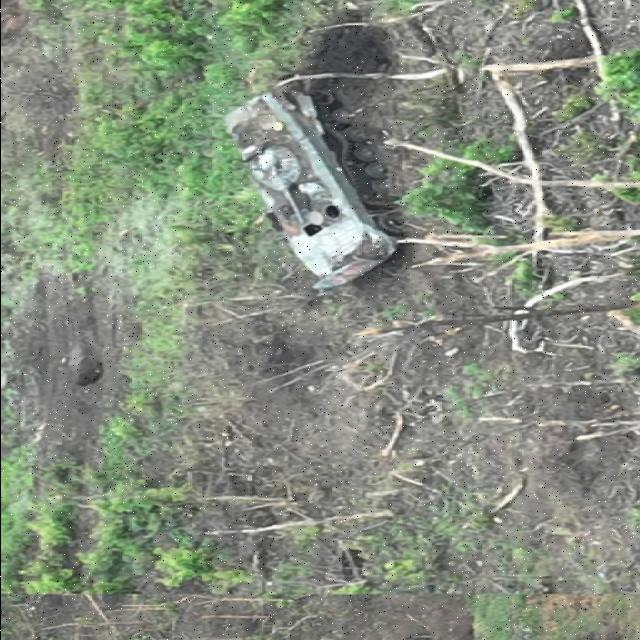APC-IFV: (218, 92, 406, 300)
